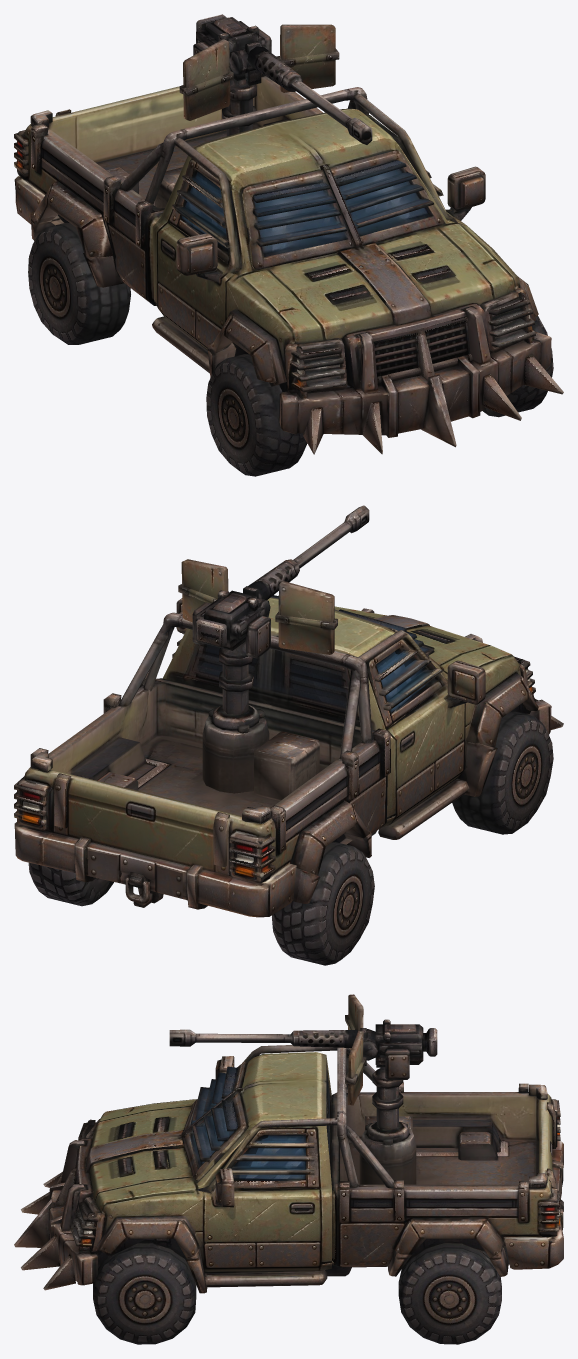
The model's file is armored+vehicle+3d+model.glb.
3 renders of one model, top to bottom at view 1: azimuth 30°, elevation 25°; view 2: azimuth 150°, elevation 25°; view 3: azimuth 270°, elevation 25°, orthographic. The views are drawn at different scales.
Parts seen in each view (by area): view 1: tripo_part_0, tripo_part_2, tripo_part_9, tripo_part_5, tripo_part_3, tripo_part_13, tripo_part_26, tripo_part_21, tripo_part_1, tripo_part_41, tripo_part_39, tripo_part_15 (+34 smaller); view 2: tripo_part_2, tripo_part_0, tripo_part_5, tripo_part_3, tripo_part_18, tripo_part_35, tripo_part_1, tripo_part_39, tripo_part_15, tripo_part_6, tripo_part_17, tripo_part_41 (+23 smaller); view 3: tripo_part_0, tripo_part_2, tripo_part_6, tripo_part_11, tripo_part_15, tripo_part_1, tripo_part_18, tripo_part_9, tripo_part_13, tripo_part_38, tripo_part_21, tripo_part_8 (+27 smaller).
Part boxes in pixels (box(x1,y1,x2,y2)): tripo_part_0: box(152, 108, 538, 391); tripo_part_2: box(14, 75, 322, 305); tripo_part_9: box(279, 331, 551, 437); tripo_part_5: box(28, 223, 130, 344); tripo_part_3: box(206, 354, 307, 476); tripo_part_13: box(241, 150, 443, 269); tripo_part_26: box(342, 302, 489, 388); tripo_part_21: box(337, 243, 431, 324); tripo_part_1: box(145, 87, 368, 204); tripo_part_41: box(279, 24, 335, 92); tripo_part_39: box(183, 39, 230, 120); tripo_part_15: box(247, 46, 372, 144); tripo_part_2: box(14, 678, 387, 917); tripo_part_0: box(162, 597, 538, 827); tripo_part_5: box(272, 842, 374, 965); tripo_part_3: box(452, 711, 553, 834); tripo_part_18: box(202, 713, 269, 793); tripo_part_35: box(254, 731, 319, 800); tripo_part_1: box(118, 612, 372, 743); tripo_part_39: box(278, 581, 334, 654); tripo_part_15: box(248, 505, 369, 600); tripo_part_6: box(28, 862, 113, 906); tripo_part_17: box(340, 630, 446, 759); tripo_part_41: box(181, 559, 228, 622); tripo_part_0: box(89, 1052, 331, 1273); tripo_part_2: box(332, 1092, 563, 1269); tripo_part_6: box(398, 1243, 501, 1344); tripo_part_11: box(93, 1243, 196, 1344); tripo_part_15: box(169, 1029, 357, 1047); tripo_part_1: box(337, 1047, 393, 1188); tripo_part_18: box(359, 1128, 416, 1184); tripo_part_9: box(49, 1173, 97, 1285); tripo_part_13: box(181, 1061, 247, 1180); tripo_part_38: box(205, 1270, 327, 1287); tripo_part_21: box(86, 1130, 184, 1172); tripo_part_8: box(458, 1132, 497, 1160).
Size of the model in its own units: 0.5425 by 0.5366 by 0.9995.
Materials: 141 (141 with a texture image).
